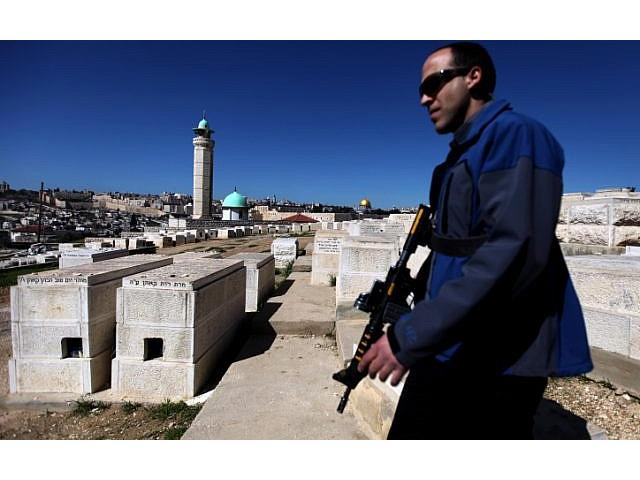rifle: (332, 204, 488, 420)
